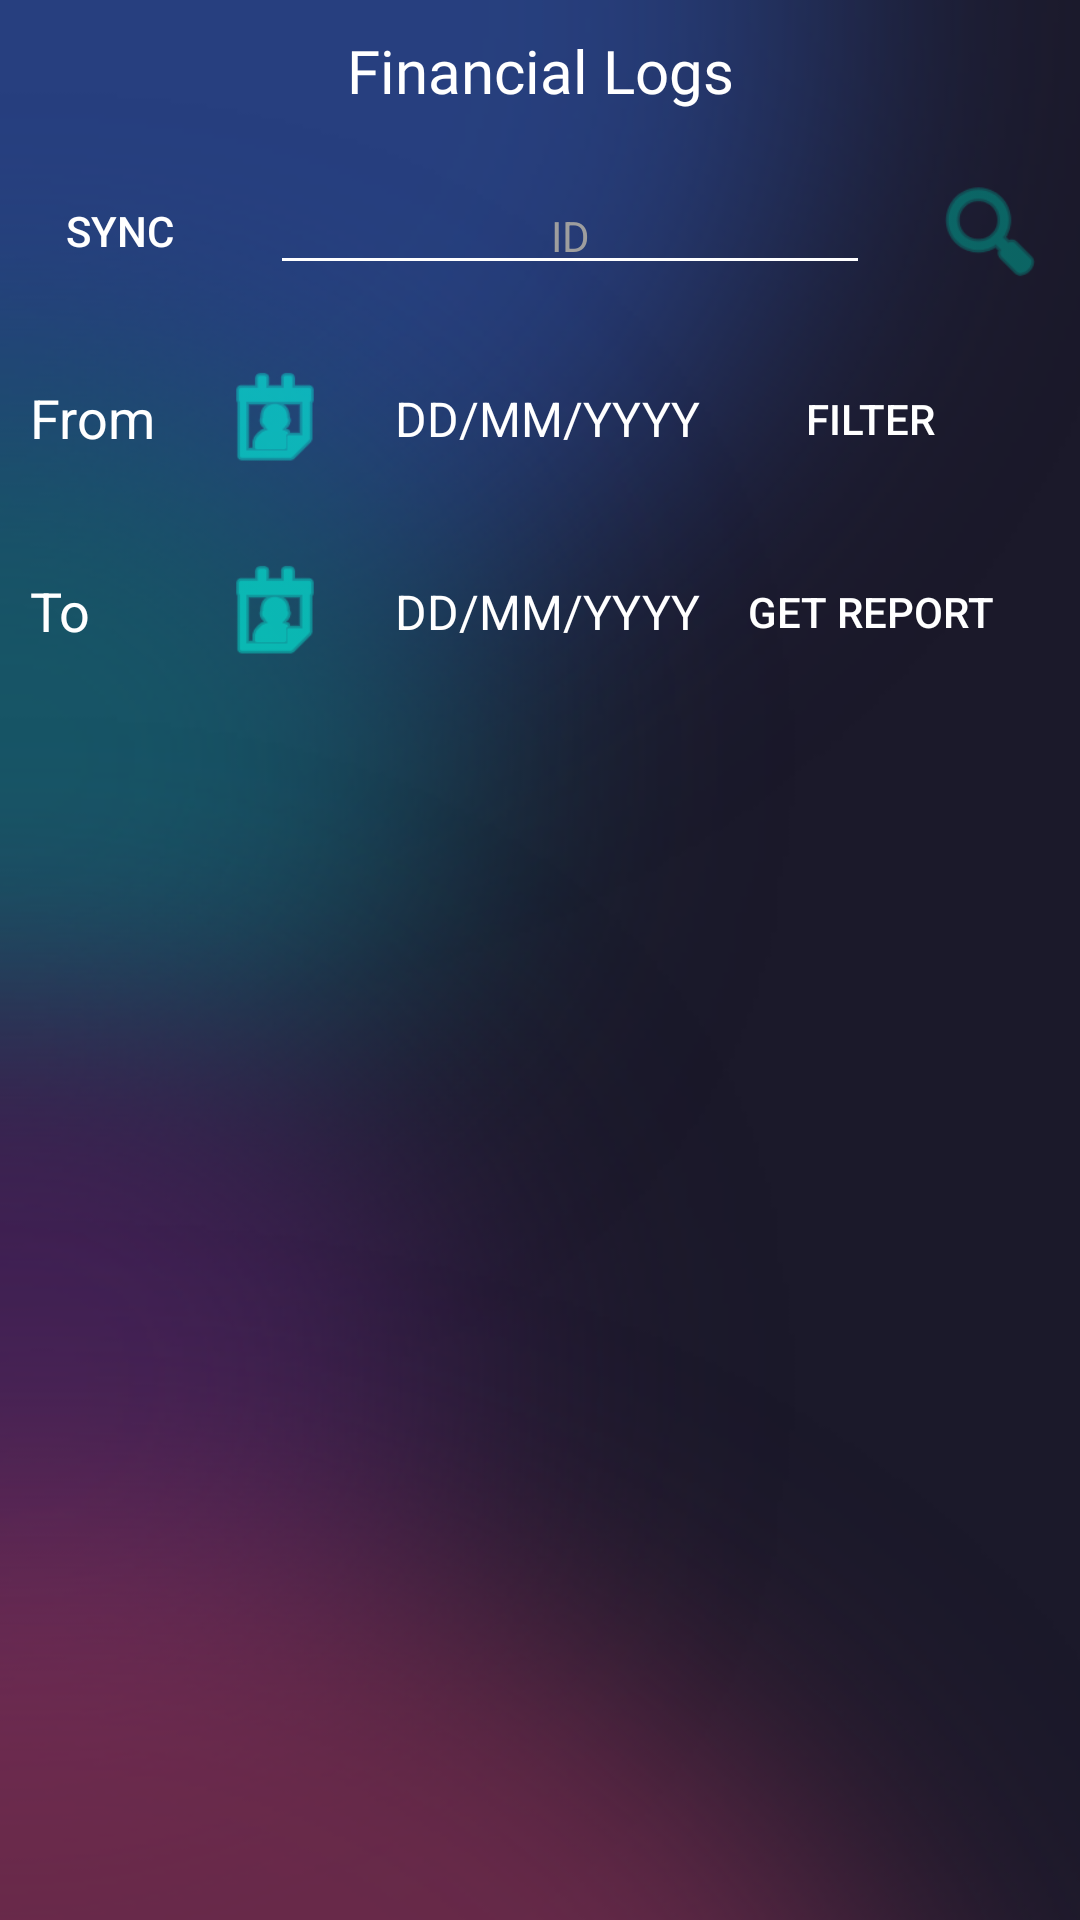

Where to tap for icons on this 1080 × 1920 app screen, as (x=x, y=y):
calendar: (x=275, y=417), (x=275, y=610)
search: (x=990, y=231)
